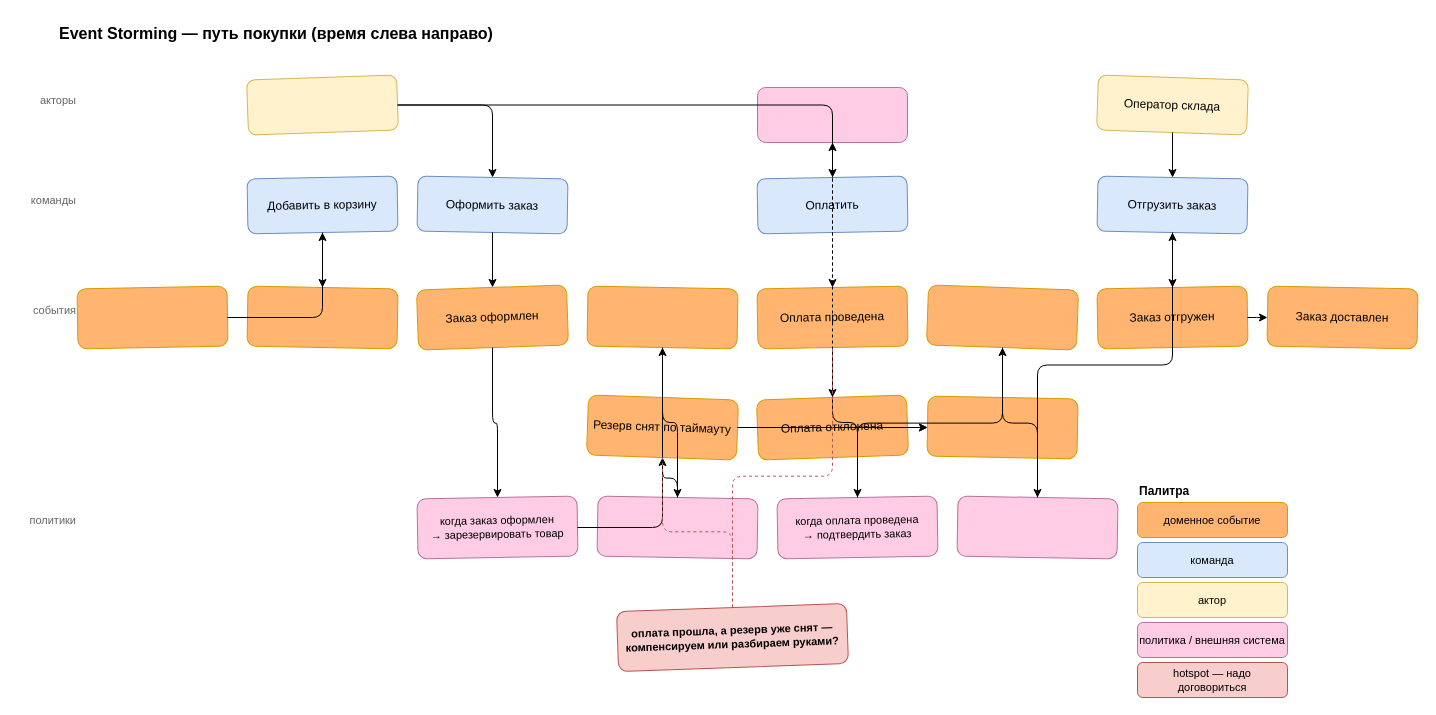
Some shapes in this 1436 by 715 pixel diagram are drawn without their labels. Each missing label, with the box of its shape:
Заказ отменён: (926, 395, 1078, 459)
Заказ подтверждён: (926, 284, 1078, 350)
когда заказ подтверждён → поставить в отгрузку: (956, 495, 1118, 559)
когда резерв не оплачен 30 мин → снять резерв: (596, 495, 758, 559)
Платёжный провайдер [внешняя система]: (756, 86, 908, 142)
Покупатель: (246, 74, 398, 135)
Товар добавлен в корзину: (246, 285, 398, 349)
Товар зарезервирован: (586, 285, 738, 349)
Товар просмотрен: (76, 285, 228, 349)
